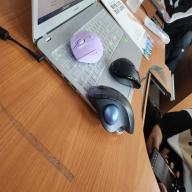mouse: (86, 82, 140, 136), (65, 23, 104, 67), (109, 52, 143, 91)
